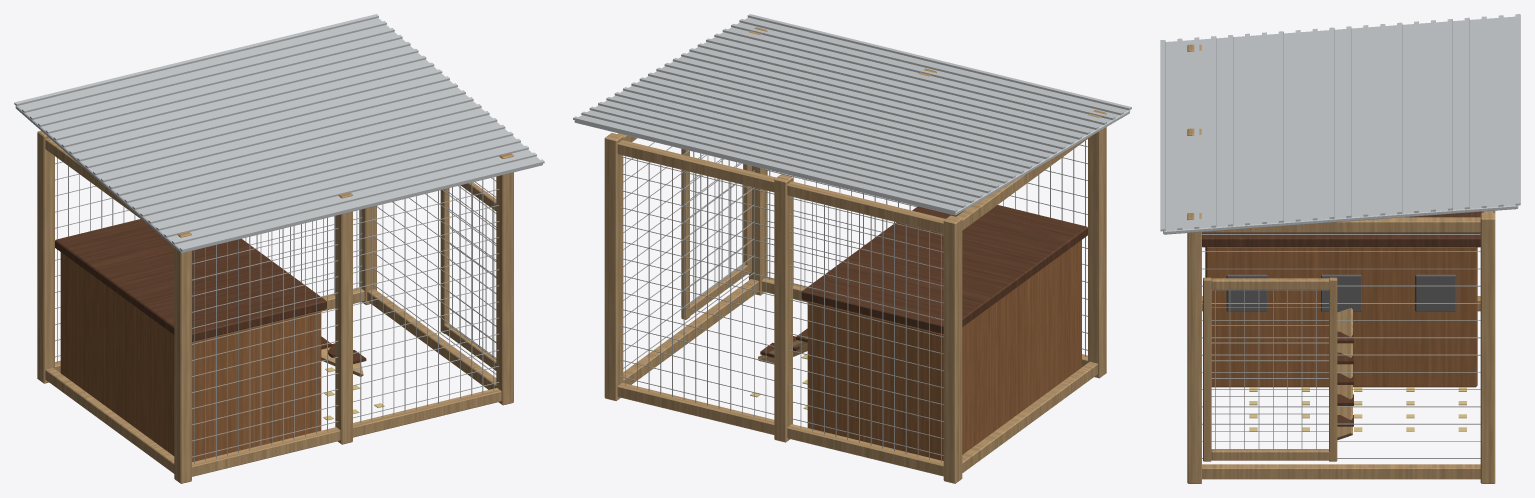
Rendered from galinheiro.glb.
3 renders of one model, left to right at view 1: azimuth 30°, elevation 25°; view 2: azimuth 150°, elevation 25°; view 3: azimuth 270°, elevation 25°, orthographic. The views are drawn at different scales.
Parts seen in each view (by area): view 1: galinheiro_chapa_galv, galinheiro_madeira, galinheiro_madeira_crua, galinheiro_tela_galinheiro, galinheiro_madeira_escura, galinheiro_portinhola_madeira_crua, galinheiro_portinhola_tela_galinheiro; view 2: galinheiro_chapa_galv, galinheiro_madeira_crua, galinheiro_madeira, galinheiro_tela_galinheiro, galinheiro_madeira_escura, galinheiro_portinhola_madeira_crua, galinheiro_portinhola_tela_galinheiro; view 3: galinheiro_chapa_galv, galinheiro_madeira, galinheiro_madeira_crua, galinheiro_portinhola_madeira_crua, galinheiro_madeira_escura, galinheiro_tela_galinheiro, galinheiro_esmalte_escuro, galinheiro_portinhola_tela_galinheiro, galinheiro_palha.
Boxes of the visible parts, <box> form: galinheiro_chapa_galv: <box>14,14,544,253</box>; galinheiro_madeira: <box>60,252,321,461</box>; galinheiro_madeira_crua: <box>37,130,513,483</box>; galinheiro_tela_galinheiro: <box>55,158,499,463</box>; galinheiro_madeira_escura: <box>55,219,366,363</box>; galinheiro_portinhola_madeira_crua: <box>440,182,496,370</box>; galinheiro_portinhola_tela_galinheiro: <box>446,187,496,359</box>; galinheiro_chapa_galv: <box>573,14,1131,215</box>; galinheiro_madeira_crua: <box>604,27,1106,483</box>; galinheiro_madeira: <box>807,240,1081,460</box>; galinheiro_tela_galinheiro: <box>620,138,1087,462</box>; galinheiro_madeira_escura: <box>760,205,1087,357</box>; galinheiro_portinhola_madeira_crua: <box>681,148,751,319</box>; galinheiro_portinhola_tela_galinheiro: <box>690,151,745,304</box>; galinheiro_chapa_galv: <box>1160,14,1520,234</box>; galinheiro_madeira: <box>1205,247,1477,387</box>; galinheiro_madeira_crua: <box>1187,44,1495,483</box>; galinheiro_portinhola_madeira_crua: <box>1203,277,1337,461</box>; galinheiro_madeira_escura: <box>1202,211,1480,426</box>; galinheiro_tela_galinheiro: <box>1202,234,1480,458</box>; galinheiro_esmalte_escuro: <box>1226,274,1456,311</box>; galinheiro_portinhola_tela_galinheiro: <box>1211,290,1328,450</box>; galinheiro_palha: <box>1249,387,1466,431</box>.
Size of the model in its own units: 2.14 by 1.54 by 1.72.
7 materials, 3 textured.
